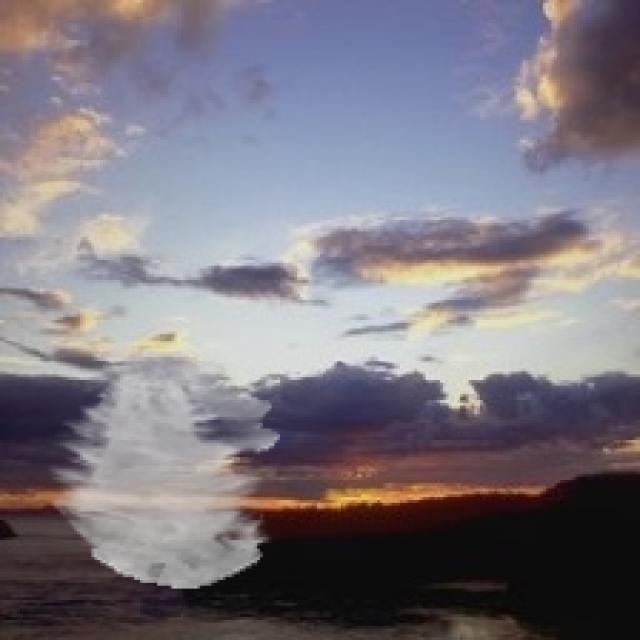Smoke: (48, 352, 280, 588)
